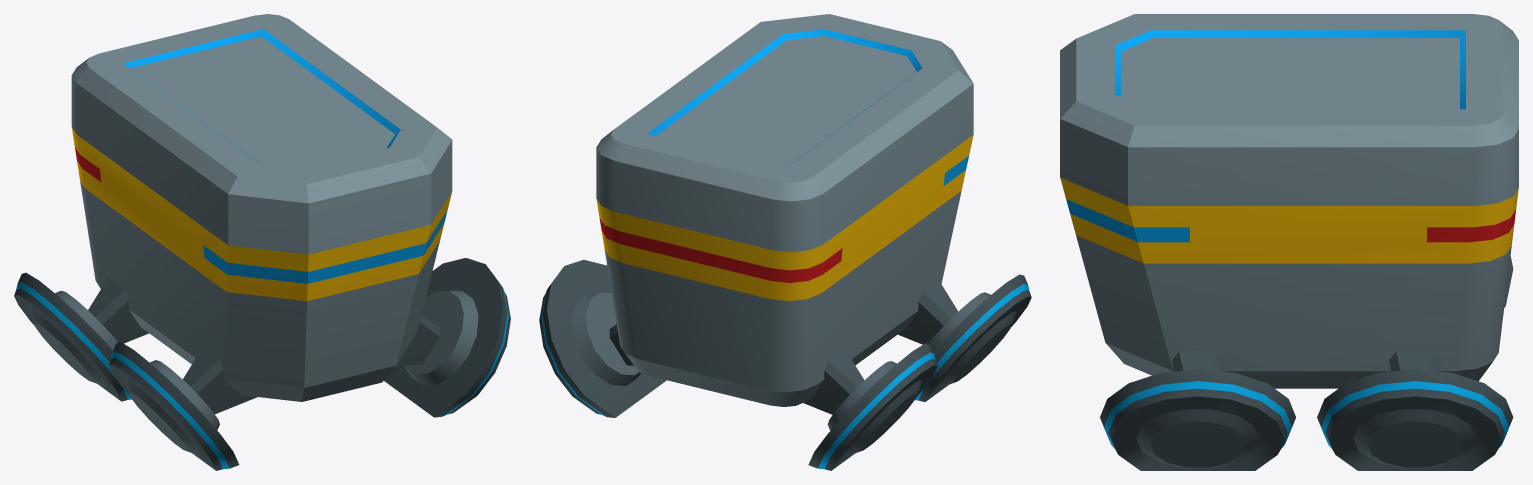
File: Delivery_drone_003.fbx
3 renders of one model, left to right at view 1: azimuth 30°, elevation 25°; view 2: azimuth 150°, elevation 25°; view 3: azimuth 270°, elevation 25°, orthographic. The views are drawn at different scales.
Parts seen in each view (by area): view 1: Delivery_drone_003; view 2: Delivery_drone_003; view 3: Delivery_drone_003.
Part boxes in pixels (x1,y1,x2,y2): Delivery_drone_003: (14,14,510,470); Delivery_drone_003: (539,14,1031,470); Delivery_drone_003: (1060,14,1518,470).
Size of the model in its own units: 91.08 by 85 by 68.46.
